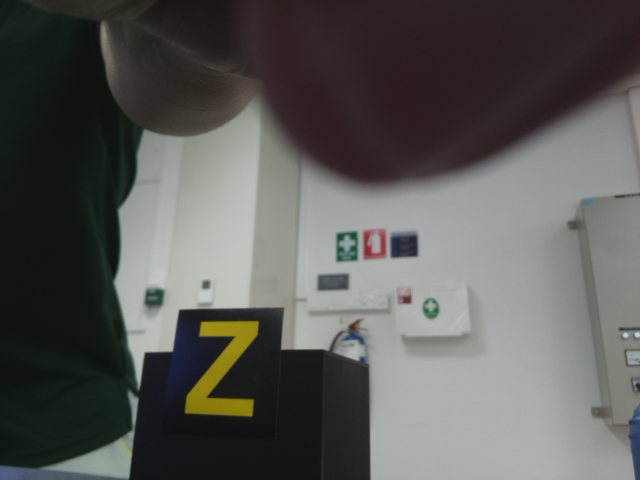z: (185, 315, 262, 423)
